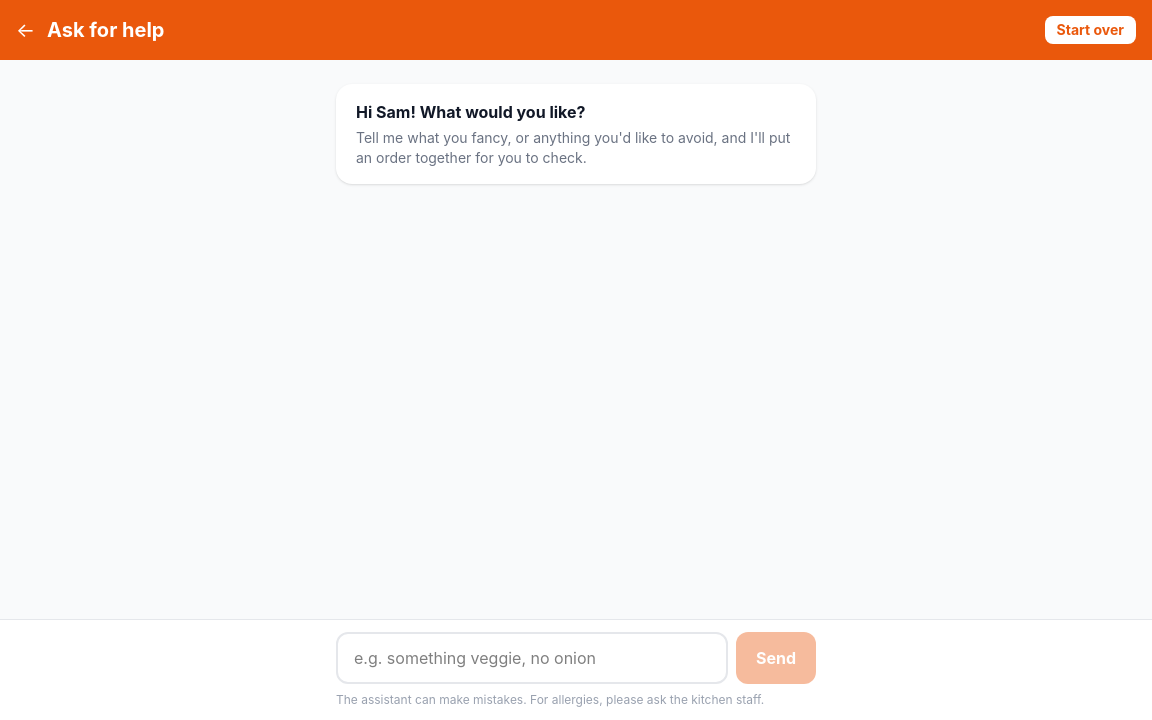
it: AssistantChat › explains rate limiting
In the field named "Message": (532, 658) [336,632,728,684], type "Hi"
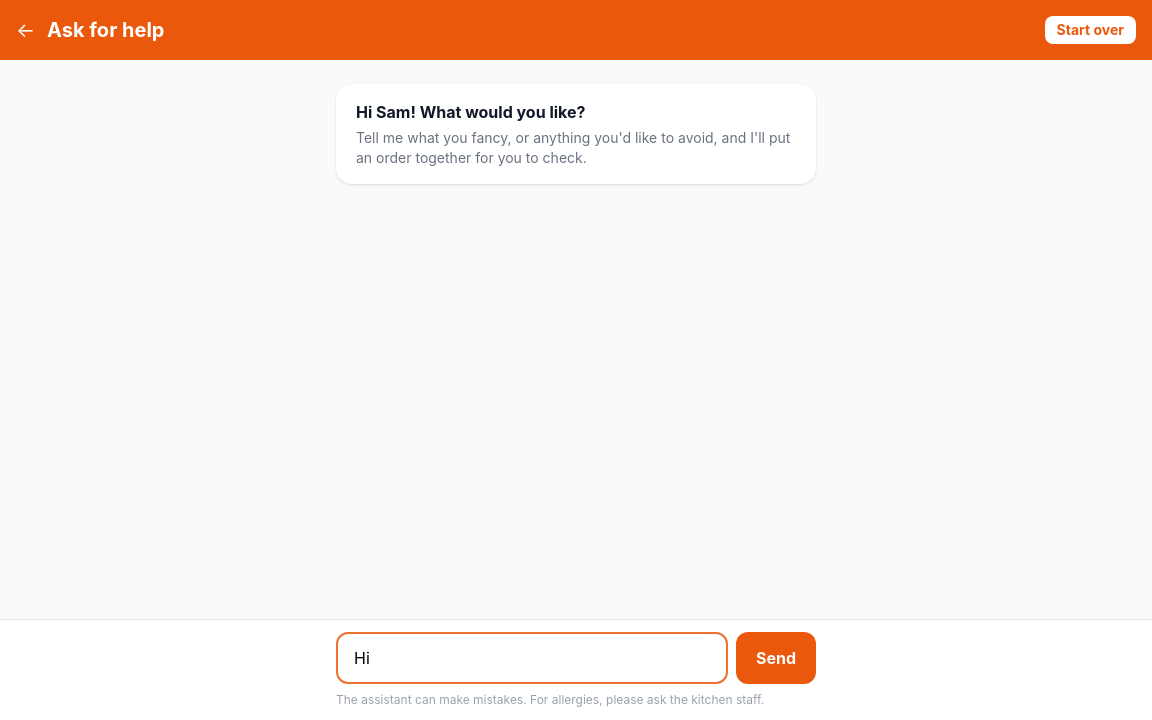
Click the button "Send": (776, 658) [736,632,816,684]
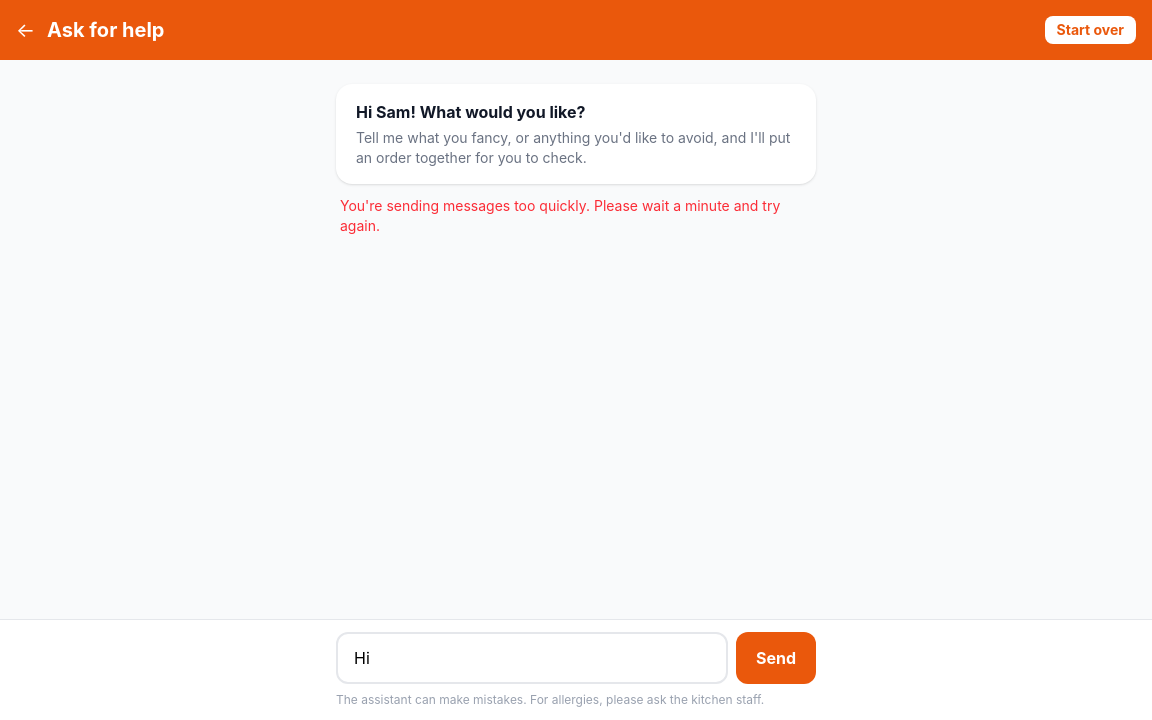
Check: the text "You're sending messages too quickly. Please wait a minute and try again." is shown, box [336,196,816,236]
